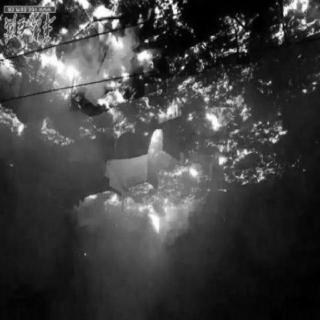Fire: (7, 6, 310, 254)
